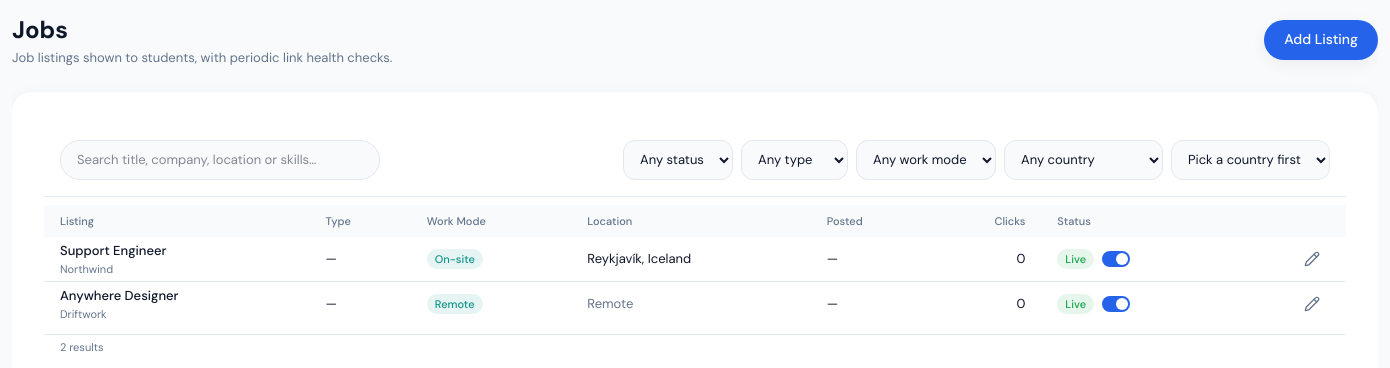
Test: the jobs list filters › keeps the province picker disabled until a country is chosen, then fills it from the endpoint
The image size is (1390, 368).
Expected: the dropdown named "State / province" is disabled, [1171,140,1330,180]
Select "India (24)" in the dropdown named "Country" at point(1084, 160), box [1004,140,1163,180]
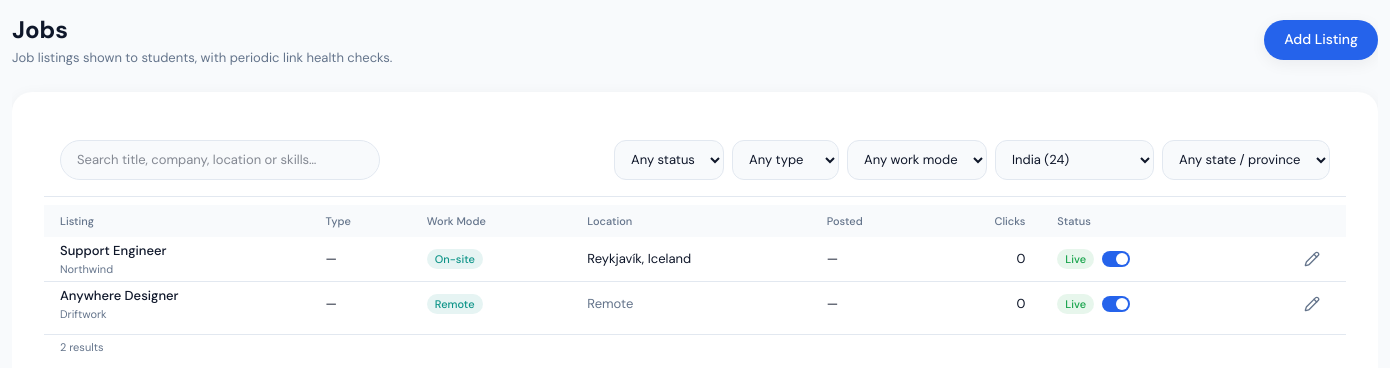
Expected: the dropdown named "State / province" is enabled, [1162,140,1330,180]
